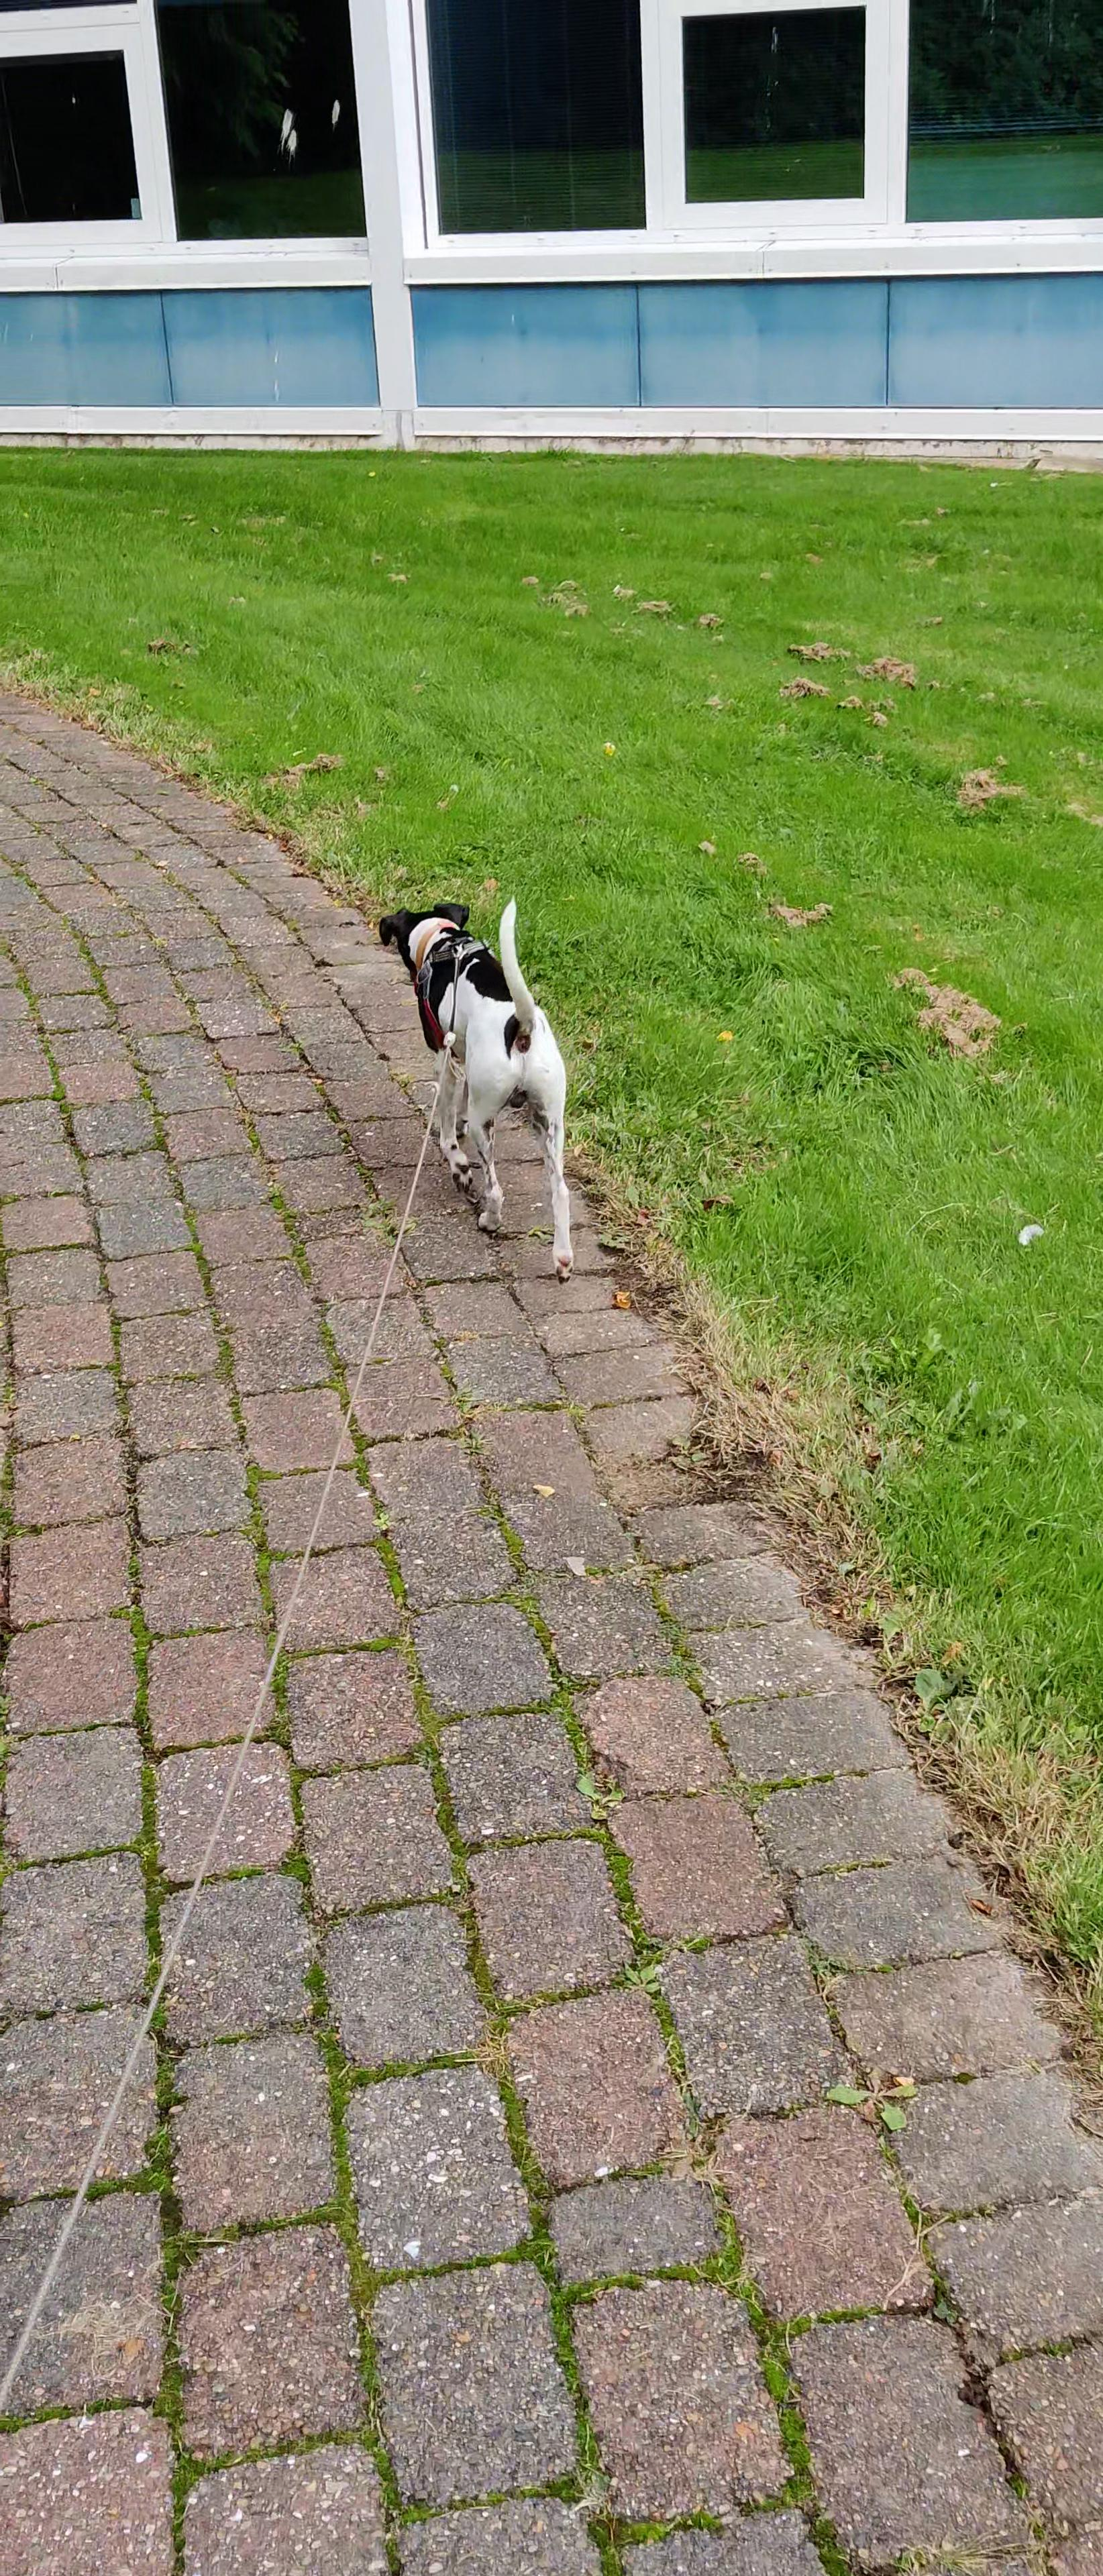Dog: (370, 889, 580, 1288)
